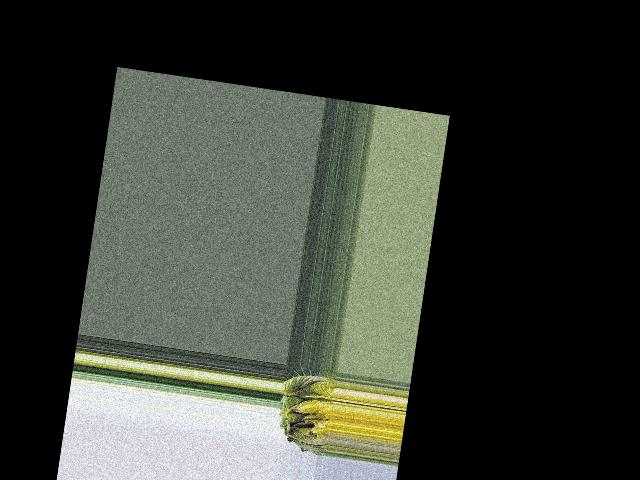lettuce: (276, 365, 338, 453)
